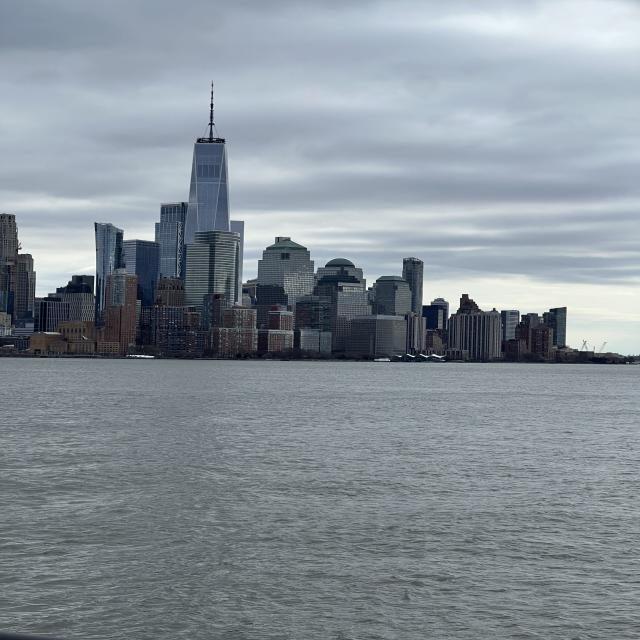WTC: (186, 83, 231, 232)
